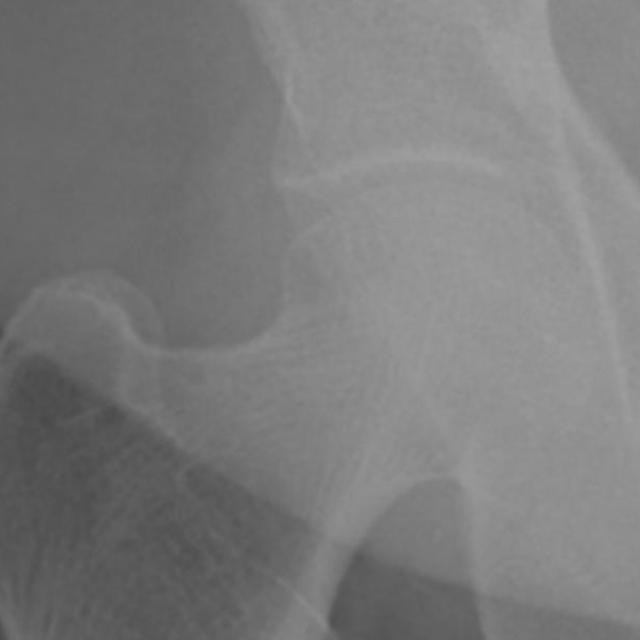Fitted_femural_head: (331, 180, 432, 331)
